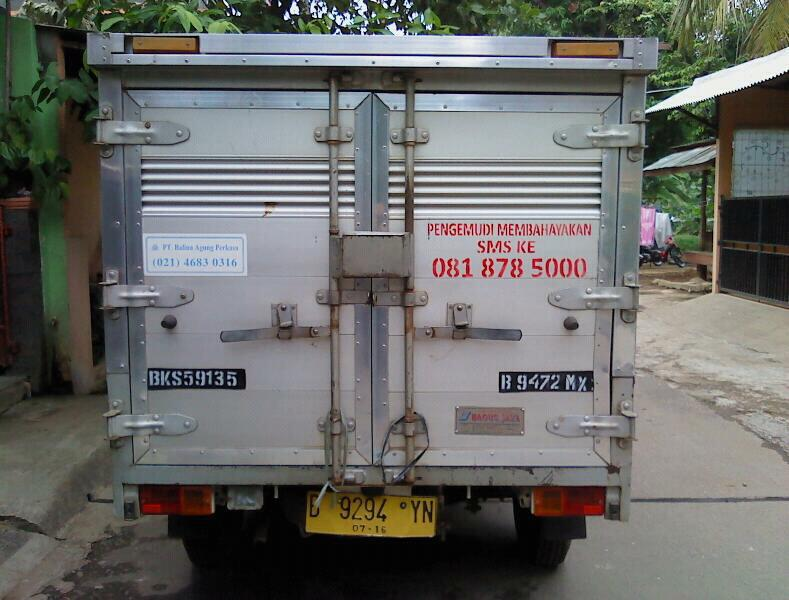plate: (306, 494, 436, 534)
